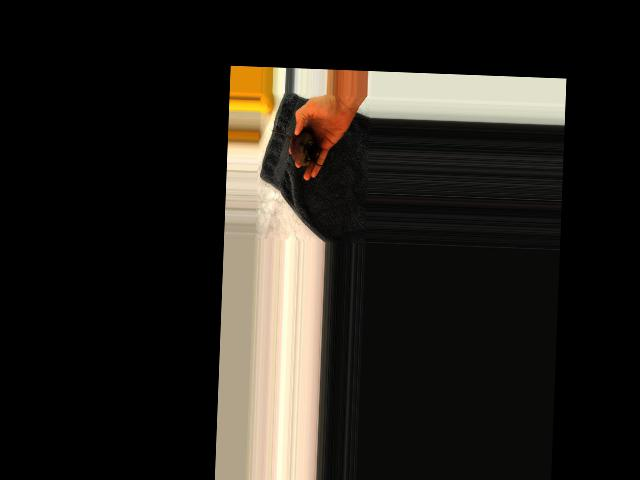beet: (270, 125, 321, 166)
